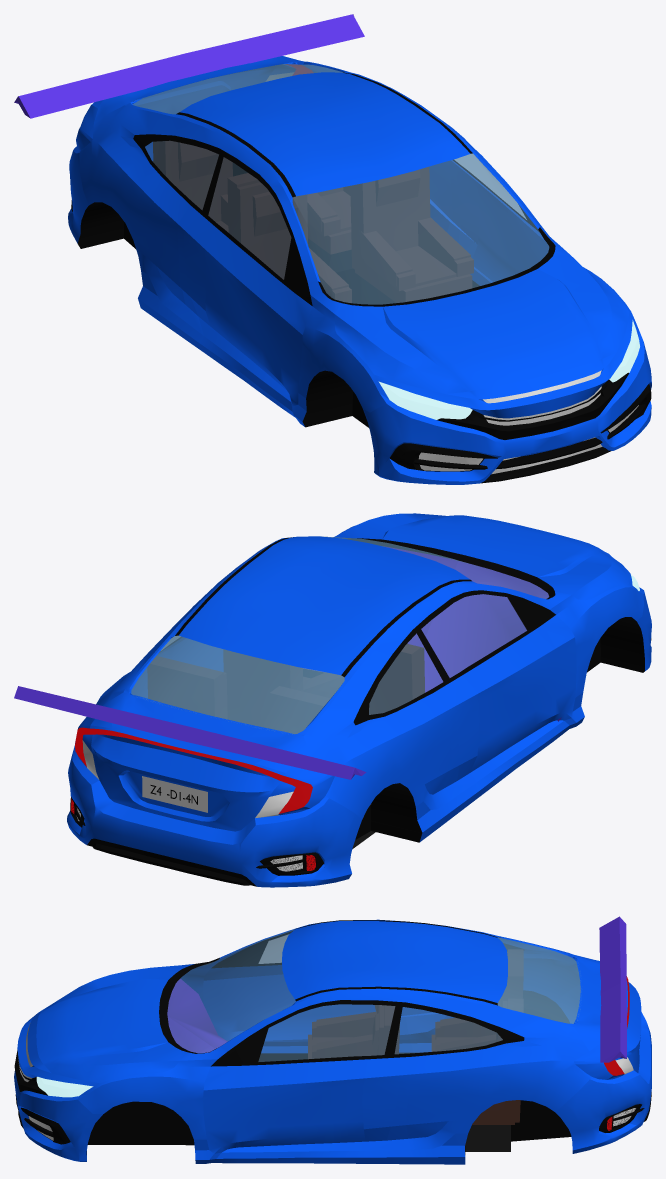
File: car.glb
The picture shows the model from 3 angles, top to bottom: view 1: azimuth 30°, elevation 25°; view 2: azimuth 150°, elevation 25°; view 3: azimuth 270°, elevation 25°; orthographic projection. The views are drawn at different scales.
Visible parts, largest first — view 1: Car, Drivers seat.001, Spoiler, Drivers seat; view 2: Car, Drivers seat, Car.001, Spoiler, Drivers seat.001; view 3: Car, Drivers seat, Spoiler, Drivers seat.001, Car.001.
Boxes of the visible parts, left/top/right/bottom form: Car: left=68, top=56, right=651, bottom=484; Drivers seat.001: left=155, top=140, right=473, bottom=304; Spoiler: left=14, top=14, right=364, bottom=118; Drivers seat: left=153, top=141, right=470, bottom=302; Car: left=67, top=513, right=651, bottom=887; Drivers seat: left=147, top=644, right=421, bottom=733; Car.001: left=385, top=546, right=561, bottom=721; Spoiler: left=14, top=686, right=366, bottom=779; Drivers seat.001: left=217, top=647, right=424, bottom=848; Car: left=14, top=919, right=651, bottom=1164; Drivers seat: left=312, top=949, right=523, bottom=1122; Spoiler: left=599, top=916, right=626, bottom=1062; Drivers seat.001: left=308, top=952, right=518, bottom=1151; Car.001: left=167, top=979, right=227, bottom=1053.
Size of the model in its own units: 2.12 by 1.2 by 4.24.
